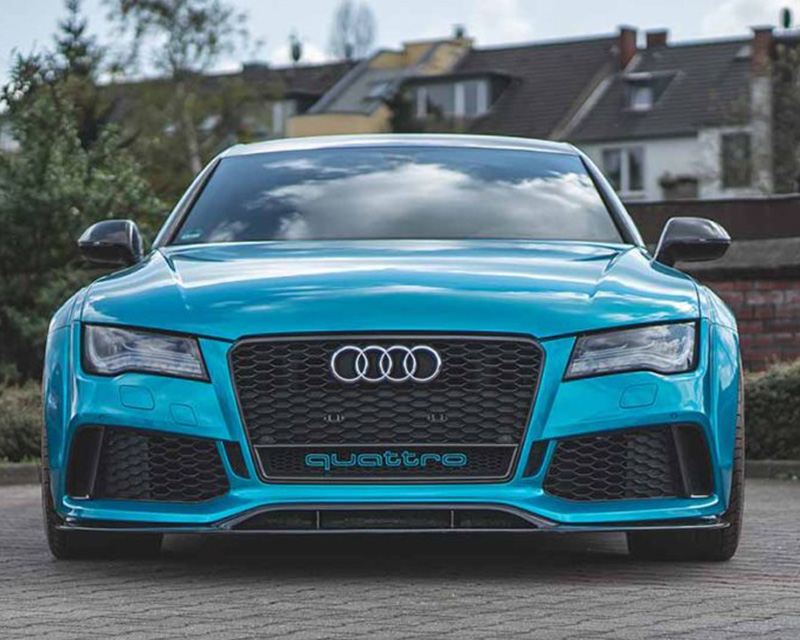audi: (321, 340, 451, 392)
